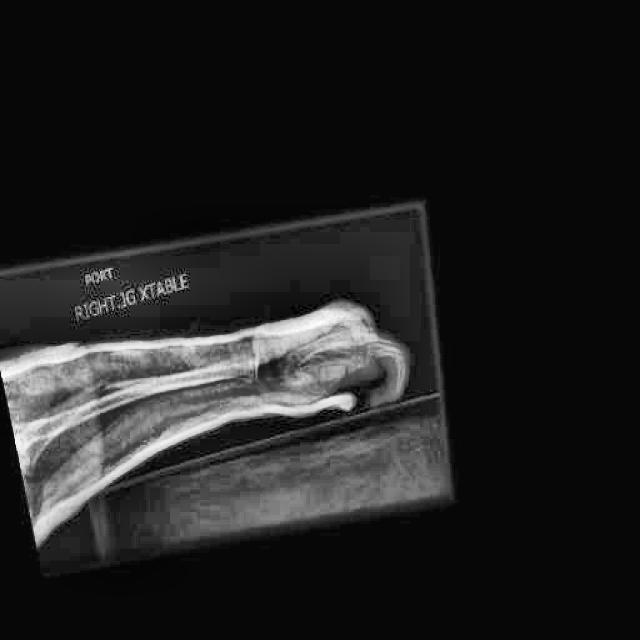forearm fracture: (73, 361, 133, 413)
